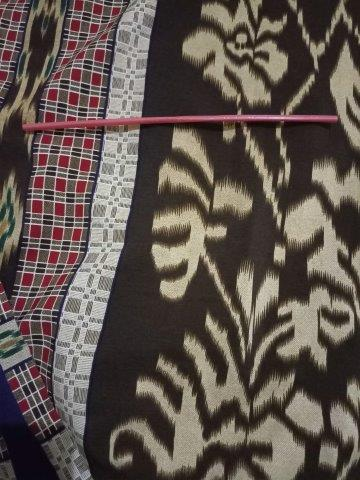sedotan: (22, 115, 338, 131)
